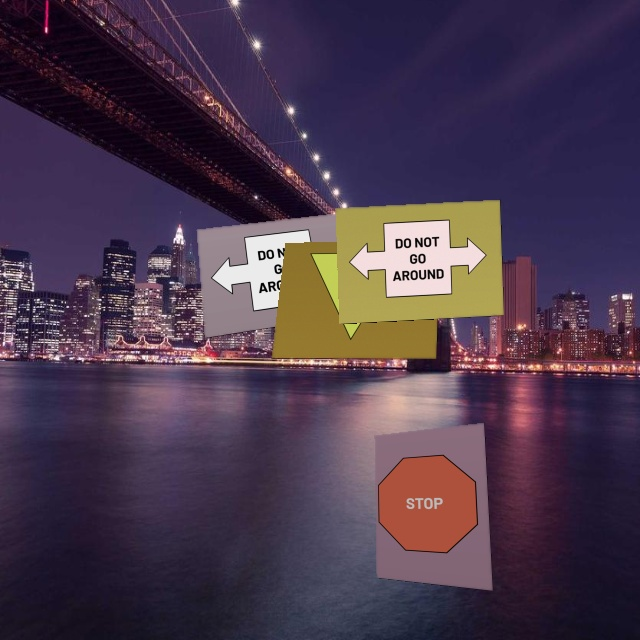DO_NOT_GO_AROUND: (205, 216, 358, 322), (348, 218, 488, 300)
STOP: (378, 452, 480, 555)
YIELD: (301, 252, 405, 340)
